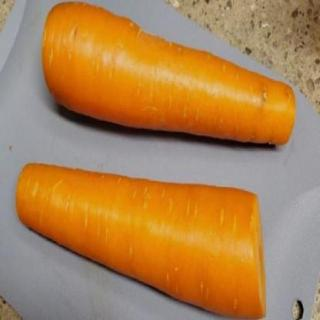carrot: (14, 159, 267, 320), (39, 0, 295, 150)
